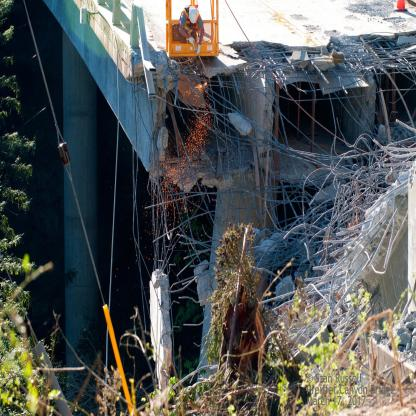rebar: (130, 35, 416, 360)
